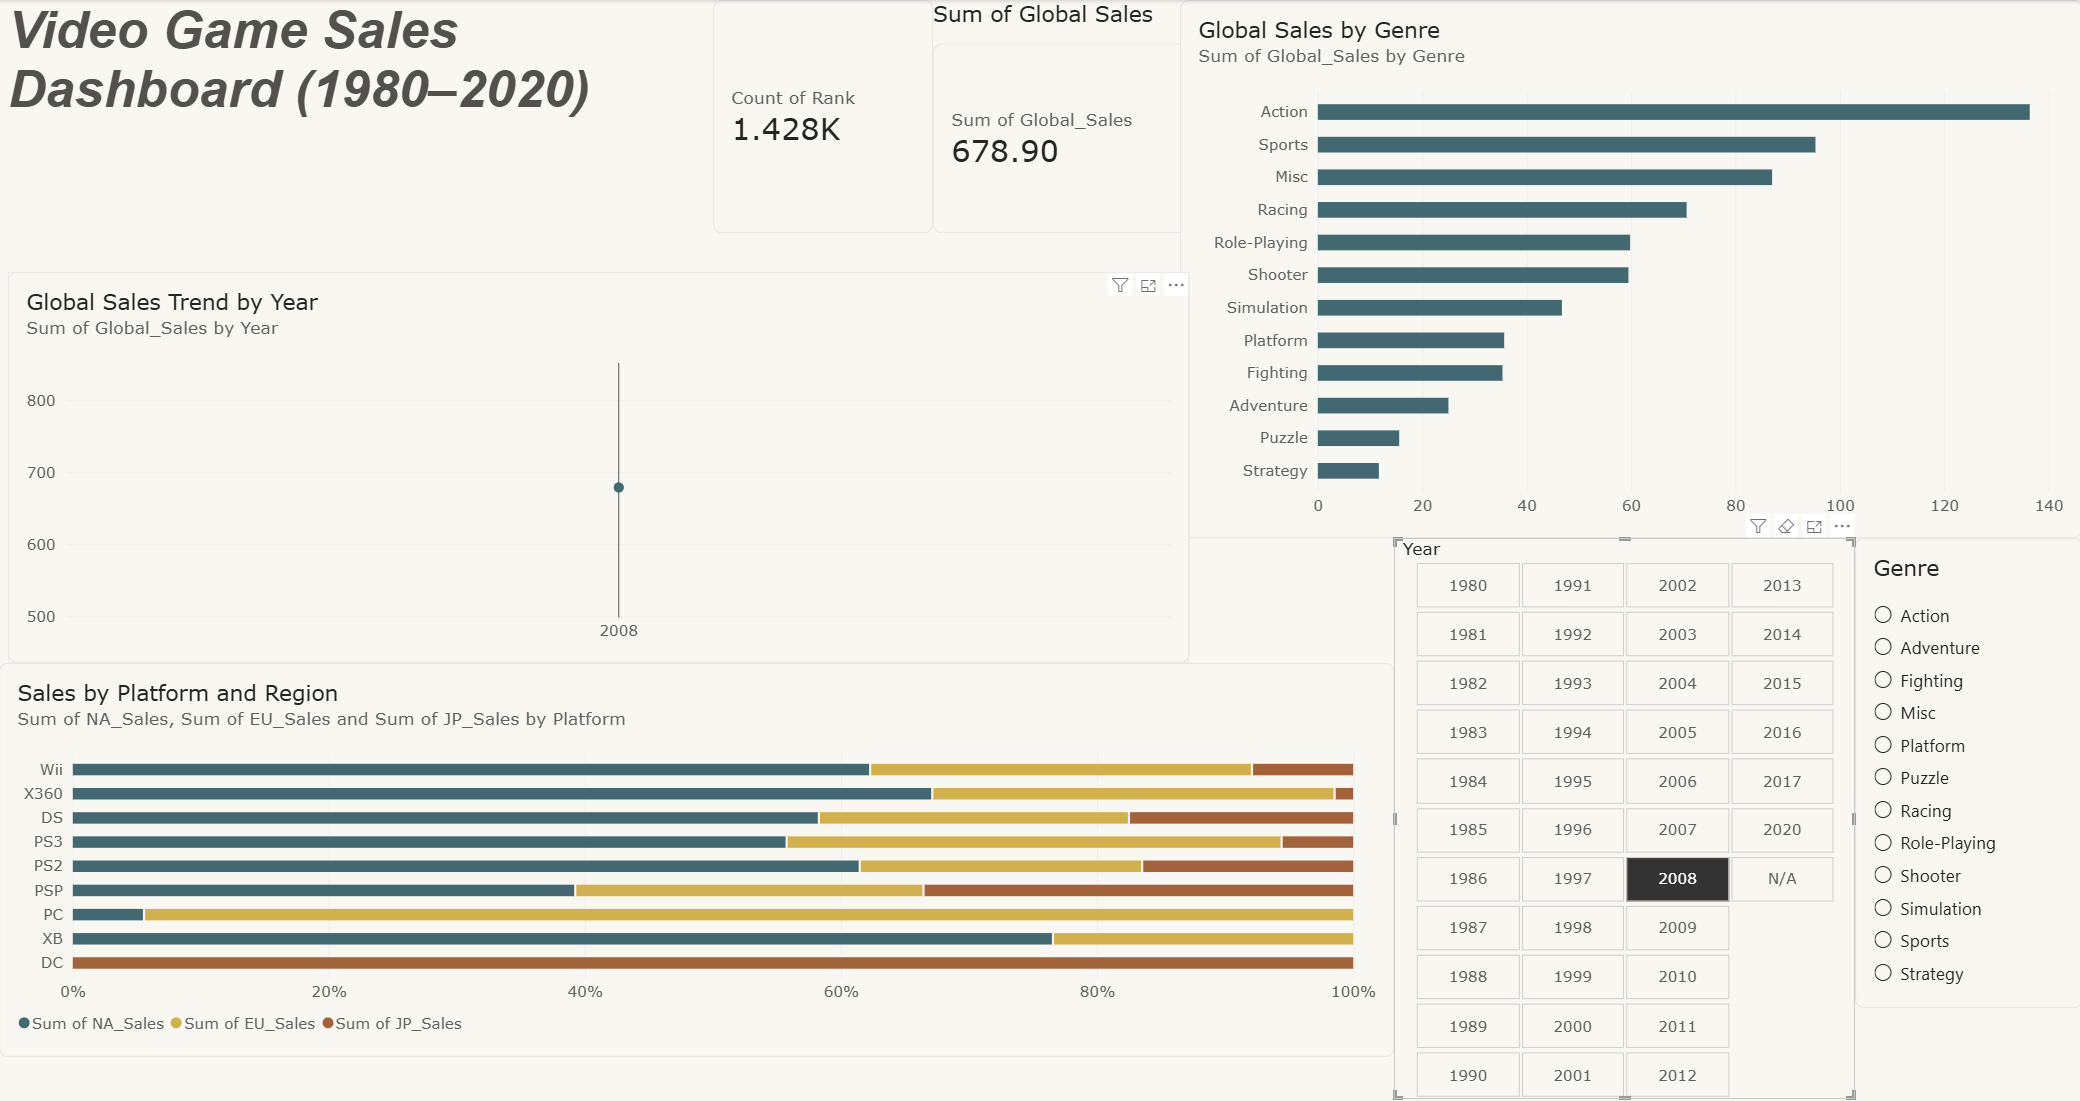

This screenshot's page, from the dashboard's own definition file:
{"tool":"powerbi","page":{"name":"Page 1","canvas":[1920,1080],"ordinal":0},"visuals":[{"type":"cardVisual","title":"Sum of Global Sales","fields":{"Data":["Sum(vgsalesGlobale.Global_Sales)"]},"box":[860.9,0,235.6,216],"z":0},{"type":"cardVisual","fields":{"Data":["CountNonNull(vgsalesGlobale.Rank)"]},"box":[657.7,0,203.2,216],"z":1000},{"type":"clusteredBarChart","title":"Global Sales by Genre","fields":{"Category":["vgsalesGlobale.Genre"],"Y":["Sum(vgsalesGlobale.Global_Sales)"]},"box":[1088.6,0,831.4,495.7],"z":2000},{"type":"lineChart","title":"Global Sales Trend by Year","fields":{"Category":["vgsalesGlobale.Year"],"Y":["Sum(vgsalesGlobale.Global_Sales)"]},"box":[7.9,250.3,1088.6,360.2],"z":3000},{"type":"hundredPercentStackedBarChart","title":"Sales by Platform and Region","fields":{"Category":["vgsalesGlobale.Platform"],"Y":["Sum(vgsalesGlobale.NA_Sales)","Sum(vgsalesGlobale.EU_Sales)","Sum(vgsalesGlobale.JP_Sales)"]},"box":[0,610.6,1285.9,363.2],"z":4000},{"type":"listSlicer","fields":{"Values":["vgsalesGlobale.Genre"]},"box":[1709.9,495.7,210.1,432.9],"z":5000},{"type":"slicer","fields":{"Values":["vgsalesGlobale.Year"]},"box":[1285.9,495.7,424,517.3],"z":6000},{"type":"textbox","box":[1710,929,210,150],"z":7000},{"type":"textbox","title":"Video Game Sales Dashboard (1980–2020)","box":[8,0,650,216],"z":8000}]}

Visuals, with their boxes on the page's 1920x1080 design canvas (x1, y1, x2, y2). These are canvas units, not pixel positions in the 2080x1101 screenshot, which may show the page scaled, cropped or inside an application window:
"Sum of Global Sales" cardVisual: 861,0,1096,216
cardVisual - CountNonNull(vgsalesGlobale.Rank): 658,0,861,216
"Global Sales by Genre" clusteredBarChart: 1089,0,1920,496
"Global Sales Trend by Year" lineChart: 8,250,1096,610
"Sales by Platform and Region" hundredPercentStackedBarChart: 0,611,1286,974
listSlicer - vgsalesGlobale.Genre: 1710,496,1920,929
slicer - vgsalesGlobale.Year: 1286,496,1710,1013
textbox: 1710,929,1920,1079
"Video Game Sales Dashboard (1980–2020)" textbox: 8,0,658,216
